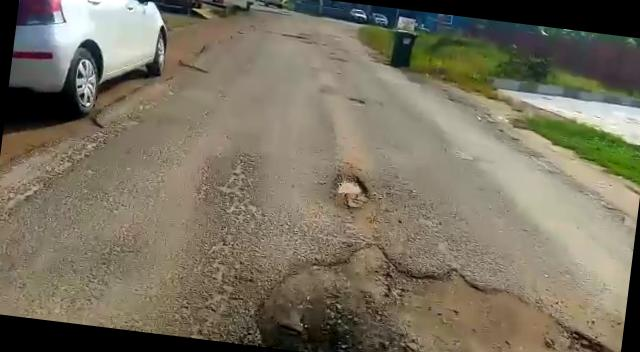pothole: (248, 229, 630, 352), (331, 169, 374, 212)
